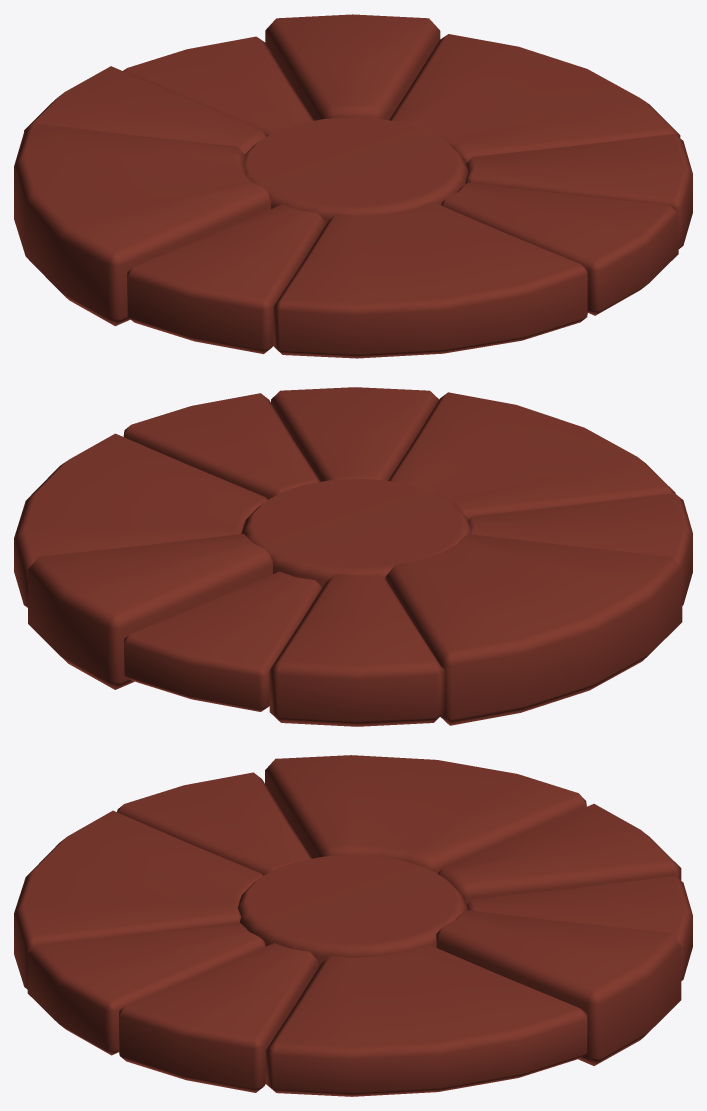
File: obstacle_7_001.fbx
3 views of the same model, one above another, from view 1: azimuth 30°, elevation 25°; view 2: azimuth 150°, elevation 25°; view 3: azimuth 270°, elevation 25° (orthographic).
Visible parts, largest first — view 1: obstacle_7_001; view 2: obstacle_7_001; view 3: obstacle_7_001.
Boxes of the visible parts, bbox=[...] form: obstacle_7_001: bbox=[14, 14, 692, 358]; obstacle_7_001: bbox=[14, 387, 692, 726]; obstacle_7_001: bbox=[14, 755, 692, 1096].
Size of the model in its own units: 588 by 585 by 73.53.
